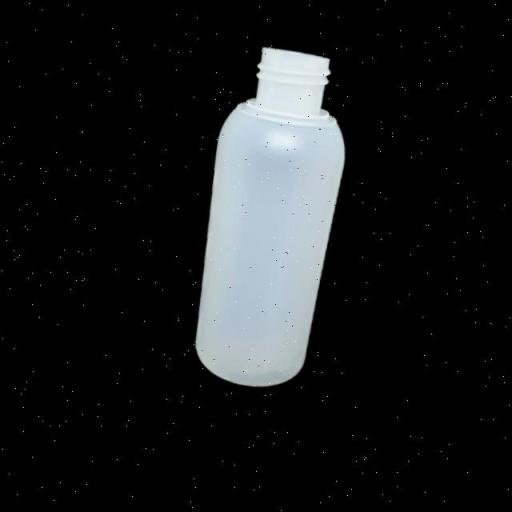plastic: (172, 31, 372, 404)
